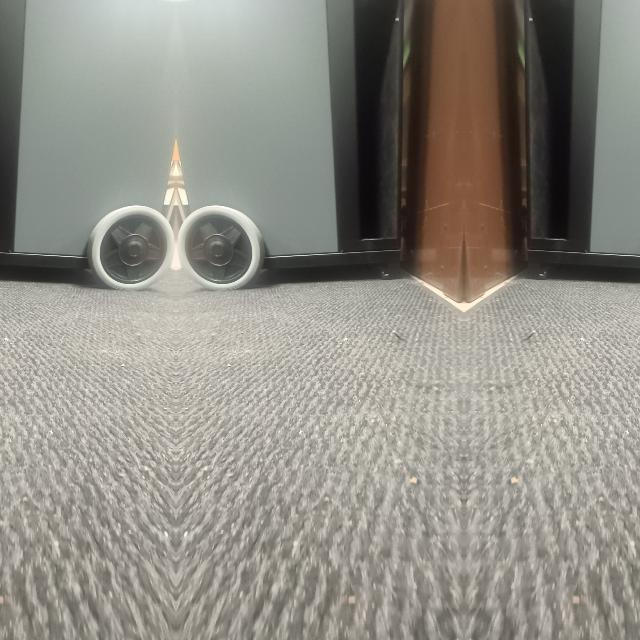obstacle: (180, 60, 408, 292), (0, 59, 169, 292), (520, 59, 640, 292)
